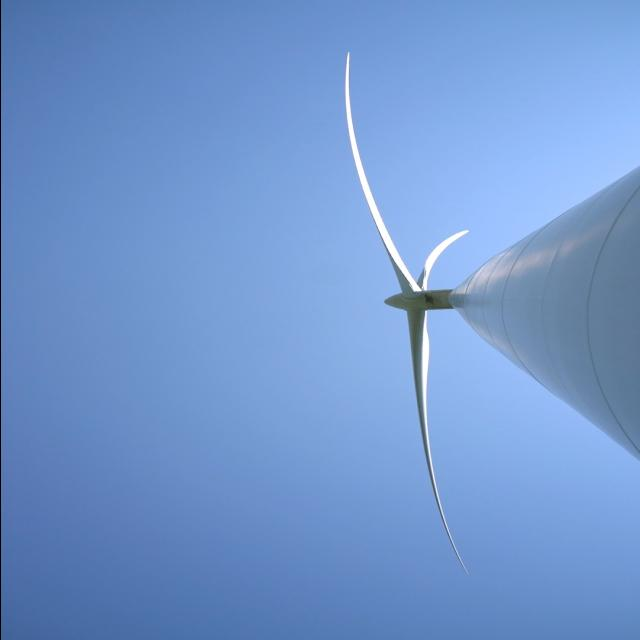blade 1: (392, 324, 470, 558)
blade 2: (415, 190, 476, 278)
blade 3: (324, 53, 399, 281)
